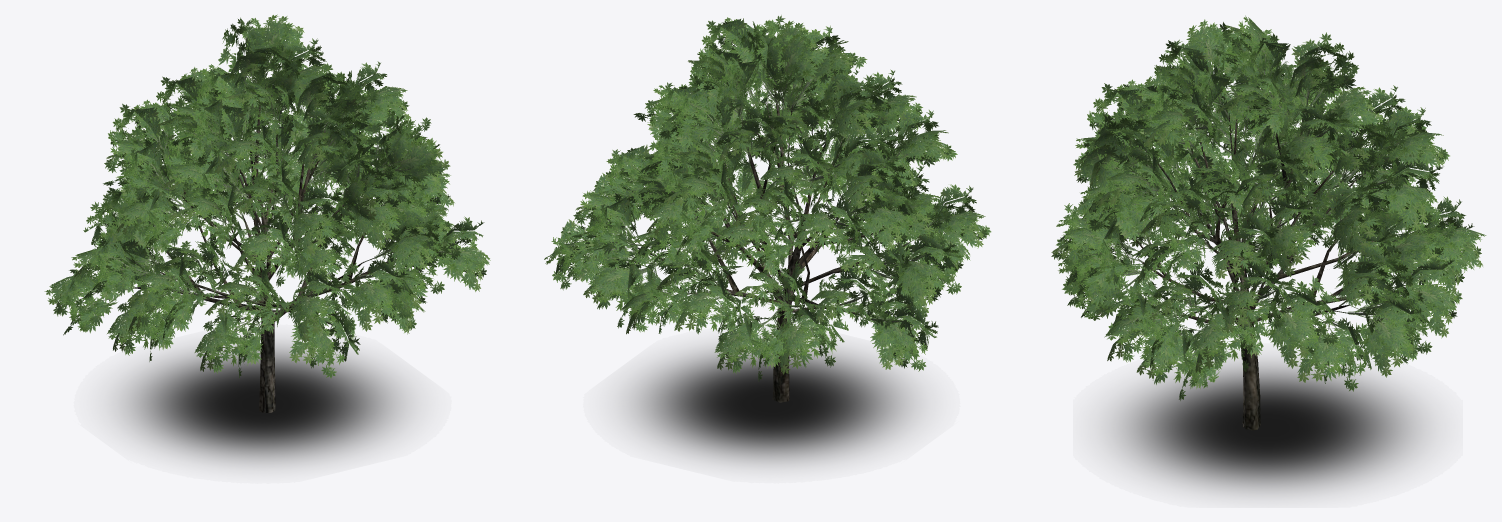
File: shu1.gltf
3 views of the same model, side by side, from view 1: azimuth 30°, elevation 25°; view 2: azimuth 150°, elevation 25°; view 3: azimuth 270°, elevation 25° (orthographic). The views are drawn at different scales.
Visible parts, largest first — view 1: dashu009, Plane058; view 2: dashu009, Plane058; view 3: dashu009, Plane058.
Part boxes in pixels (x1,y1,x2,y2): dashu009: [44, 14, 490, 413]; Plane058: [115, 342, 409, 465]; dashu009: [544, 15, 991, 402]; Plane058: [625, 346, 918, 465]; dashu009: [1051, 15, 1486, 430]; Plane058: [1107, 360, 1427, 495].
Bounding box in the file's own units: 10002 × 9621 × 9570.
Materials: 3 (3 with a texture image).
